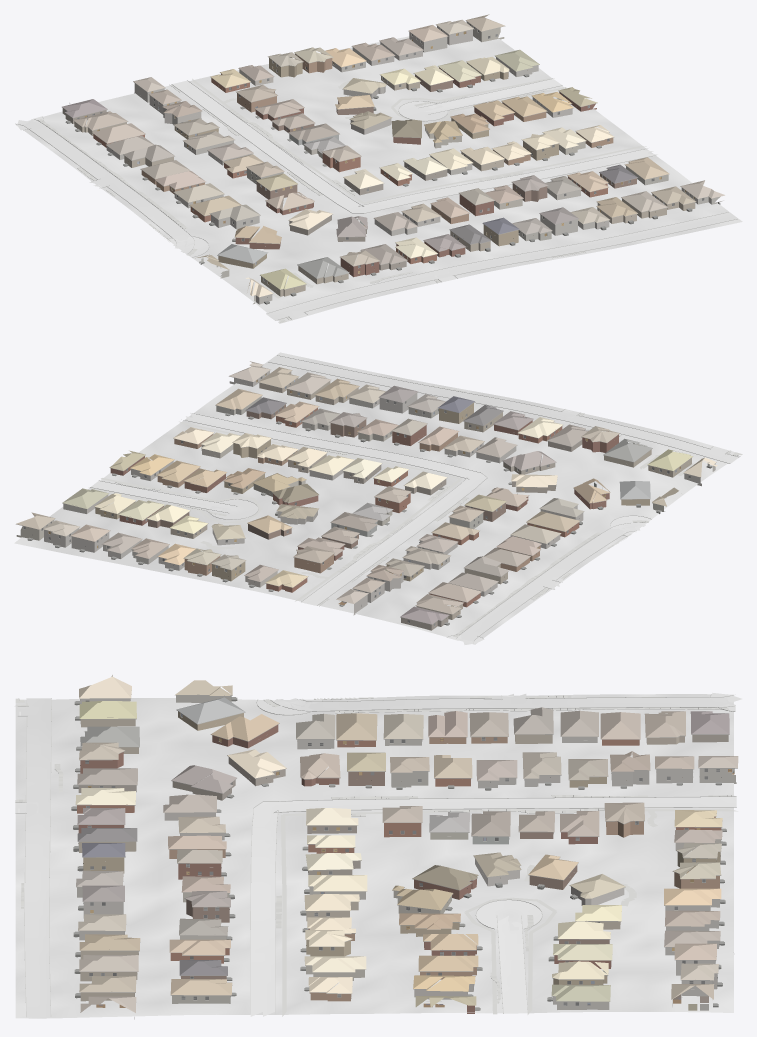
The picture shows the model from 3 angles, top to bottom: view 1: azimuth 30°, elevation 25°; view 2: azimuth 150°, elevation 25°; view 3: azimuth 270°, elevation 25°; orthographic projection. The views are drawn at different scales.
Parts seen in each view (by area): view 1: ground, roof, concrete, wall, wall_stone, detail, walk, curb, wall_stucco, glass; view 2: ground, roof, concrete, wall, detail, wall_stone, walk, curb, wall_stucco, glass; view 3: ground, roof, concrete, wall, detail, wall_stone, walk, curb, wall_stucco, glass.
Part boxes in pixels (left/top/right/bottom): ground: left=15, top=36, right=742, bottom=321; roof: left=62, top=14, right=724, bottom=297; concrete: left=17, top=79, right=737, bottom=320; wall: left=62, top=54, right=695, bottom=296; wall_stone: left=106, top=26, right=723, bottom=304; detail: left=62, top=21, right=720, bottom=304; walk: left=38, top=78, right=646, bottom=323; curb: left=15, top=78, right=737, bottom=320; wall_stucco: left=216, top=21, right=668, bottom=278; glass: left=65, top=23, right=704, bottom=267; ground: left=14, top=352, right=739, bottom=644; roof: left=16, top=361, right=717, bottom=624; concrete: left=91, top=355, right=738, bottom=644; wall: left=95, top=372, right=691, bottom=630; detail: left=16, top=365, right=716, bottom=626; wall_stone: left=44, top=366, right=715, bottom=615; walk: left=88, top=385, right=742, bottom=637; curb: left=90, top=355, right=740, bottom=643; wall_stucco: left=16, top=387, right=664, bottom=587; glass: left=23, top=376, right=690, bottom=625; ground: left=15, top=694, right=733, bottom=1018; roof: left=75, top=675, right=738, bottom=1012; concrete: left=15, top=693, right=741, bottom=1017; wall: left=77, top=711, right=728, bottom=1013; detail: left=71, top=694, right=737, bottom=1010; wall_stone: left=79, top=698, right=736, bottom=1019; walk: left=14, top=695, right=737, bottom=1016; curb: left=15, top=694, right=736, bottom=1017; wall_stucco: left=77, top=694, right=721, bottom=1003; glass: left=85, top=700, right=719, bottom=1005.
Bounding box in the file's own units: 257 × 16.94 × 254.
